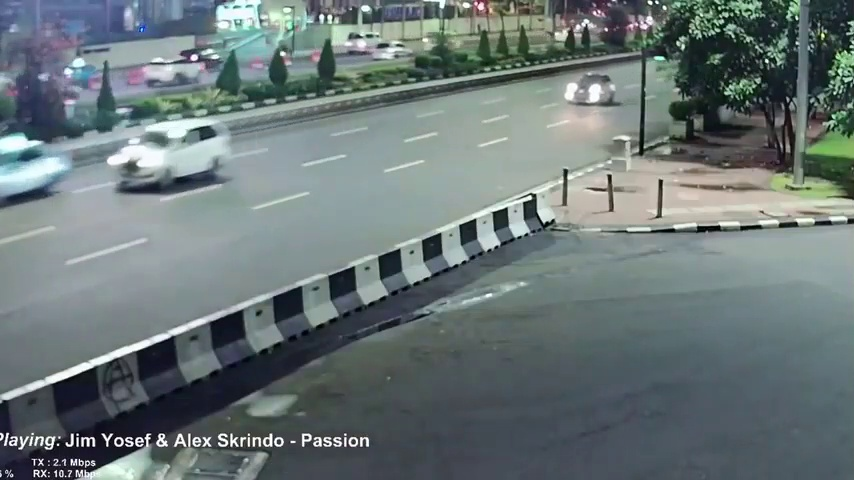car: (114, 120, 230, 186), (1, 133, 71, 206), (144, 56, 205, 88), (566, 70, 615, 109), (371, 39, 409, 63), (346, 31, 379, 54)
